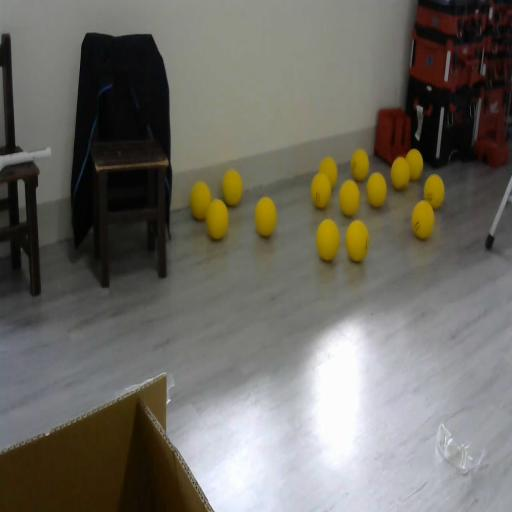FUEL: (315, 217, 340, 262), (205, 196, 229, 240), (345, 218, 369, 262), (254, 195, 278, 237), (190, 180, 212, 220), (412, 200, 434, 240), (221, 168, 243, 206), (423, 173, 445, 210), (339, 179, 360, 217), (366, 172, 386, 208), (318, 157, 338, 189), (350, 148, 370, 180), (406, 148, 424, 180)
